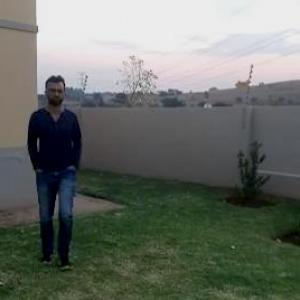follow: (24, 72, 86, 254)
